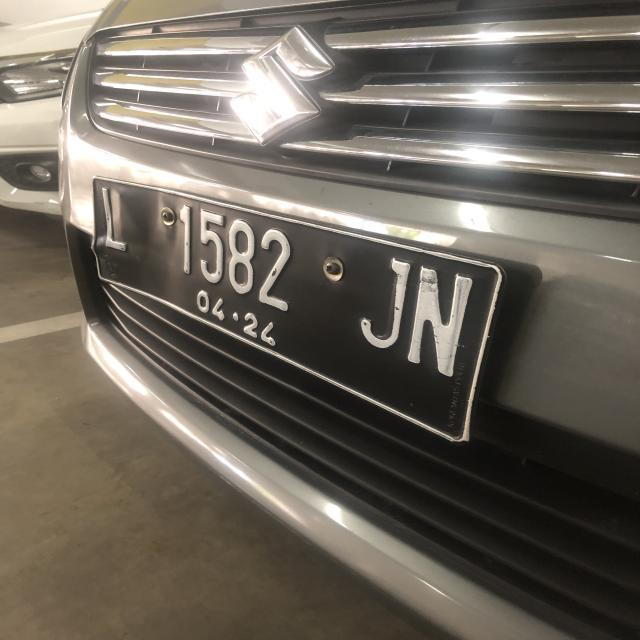1: (174, 203, 198, 273)
2: (252, 224, 296, 316)
5: (195, 207, 228, 286)
8: (225, 218, 258, 296)
J: (358, 258, 411, 353)
L: (97, 182, 133, 255)
N: (406, 258, 478, 376)
